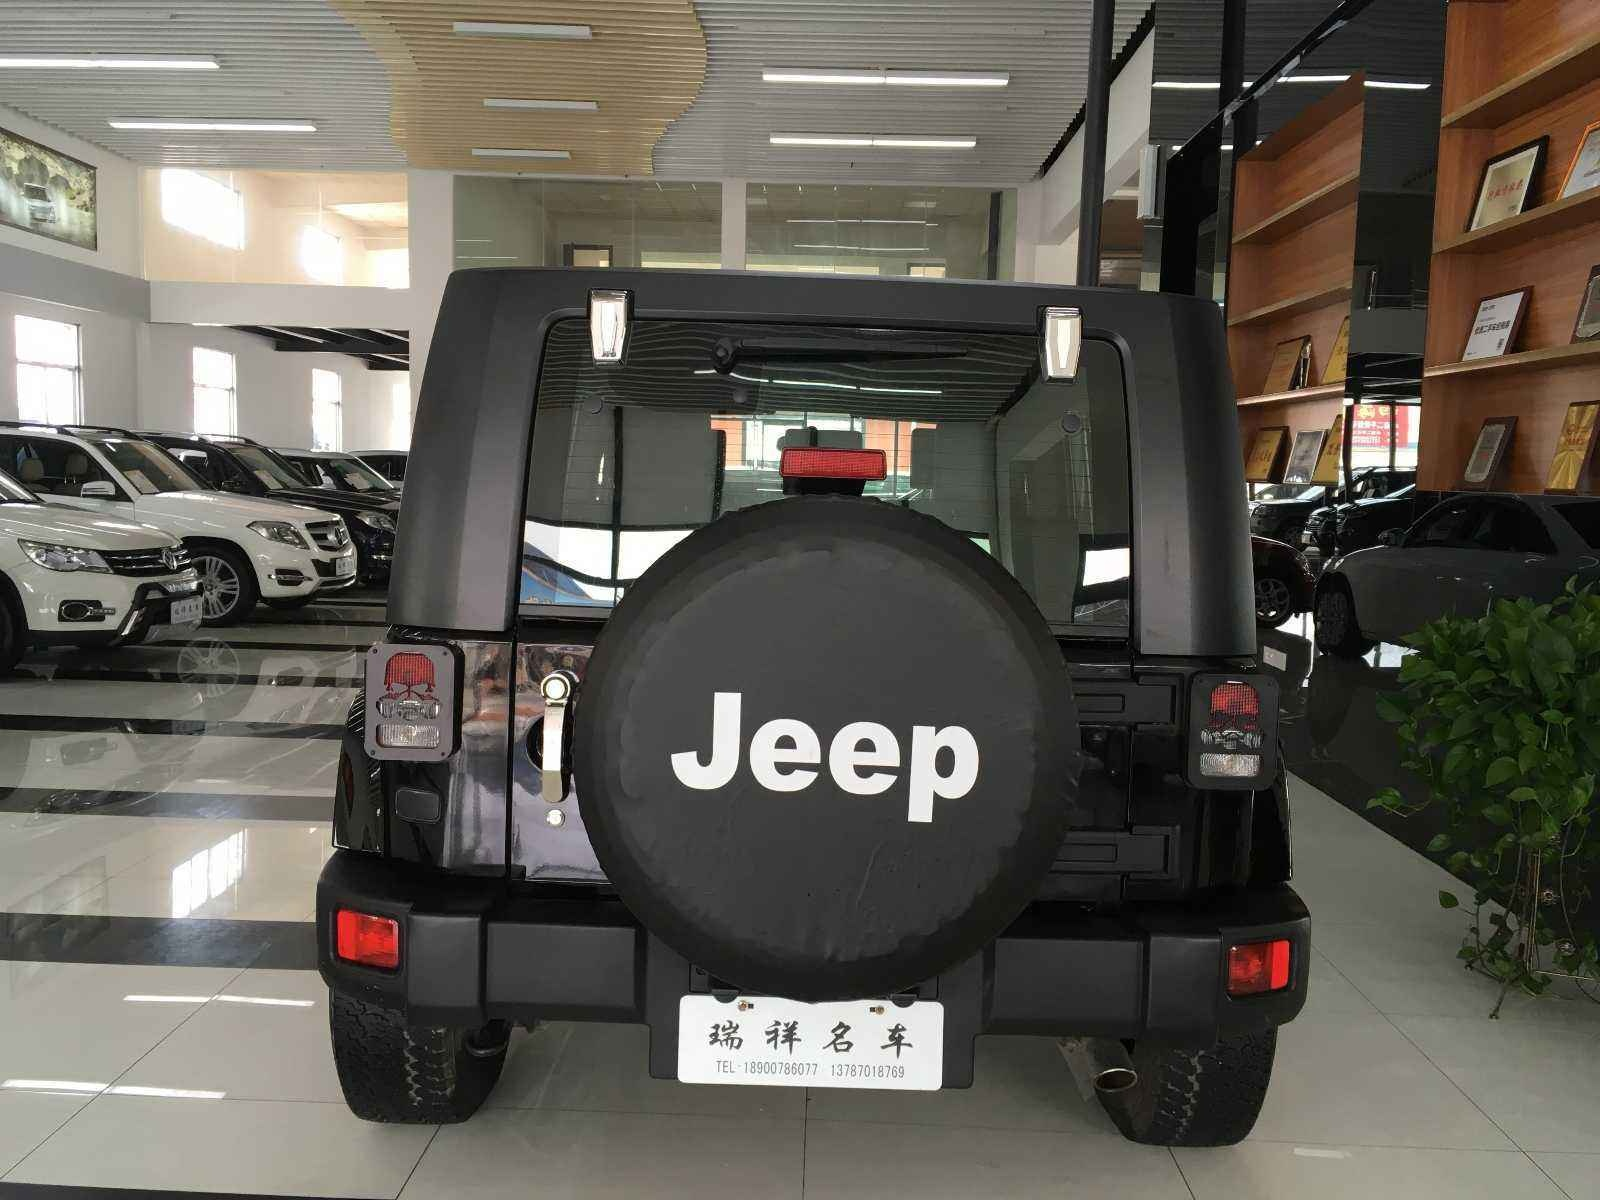jeep: (340, 239, 1284, 1167)
